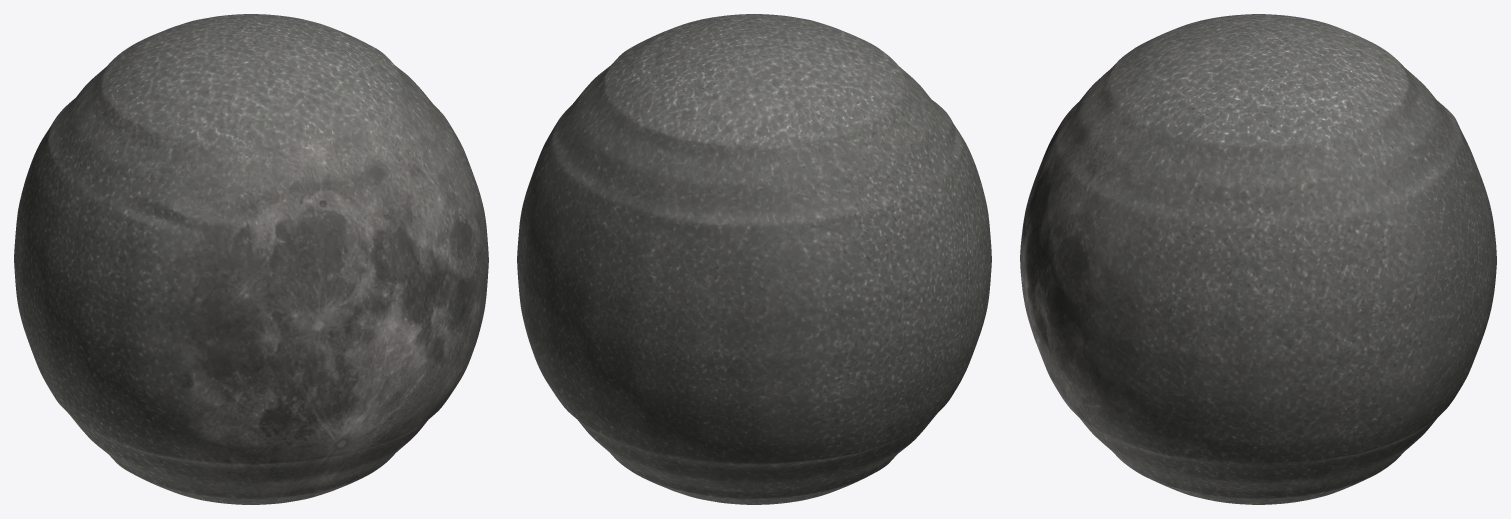
The model's file is moon_test.glb.
3 views of the same model, side by side, from view 1: azimuth 30°, elevation 25°; view 2: azimuth 150°, elevation 25°; view 3: azimuth 270°, elevation 25° (orthographic).
Size of the model in its own units: 1.84 by 1.9 by 1.84.
Materials: 1 (1 with a texture image).
